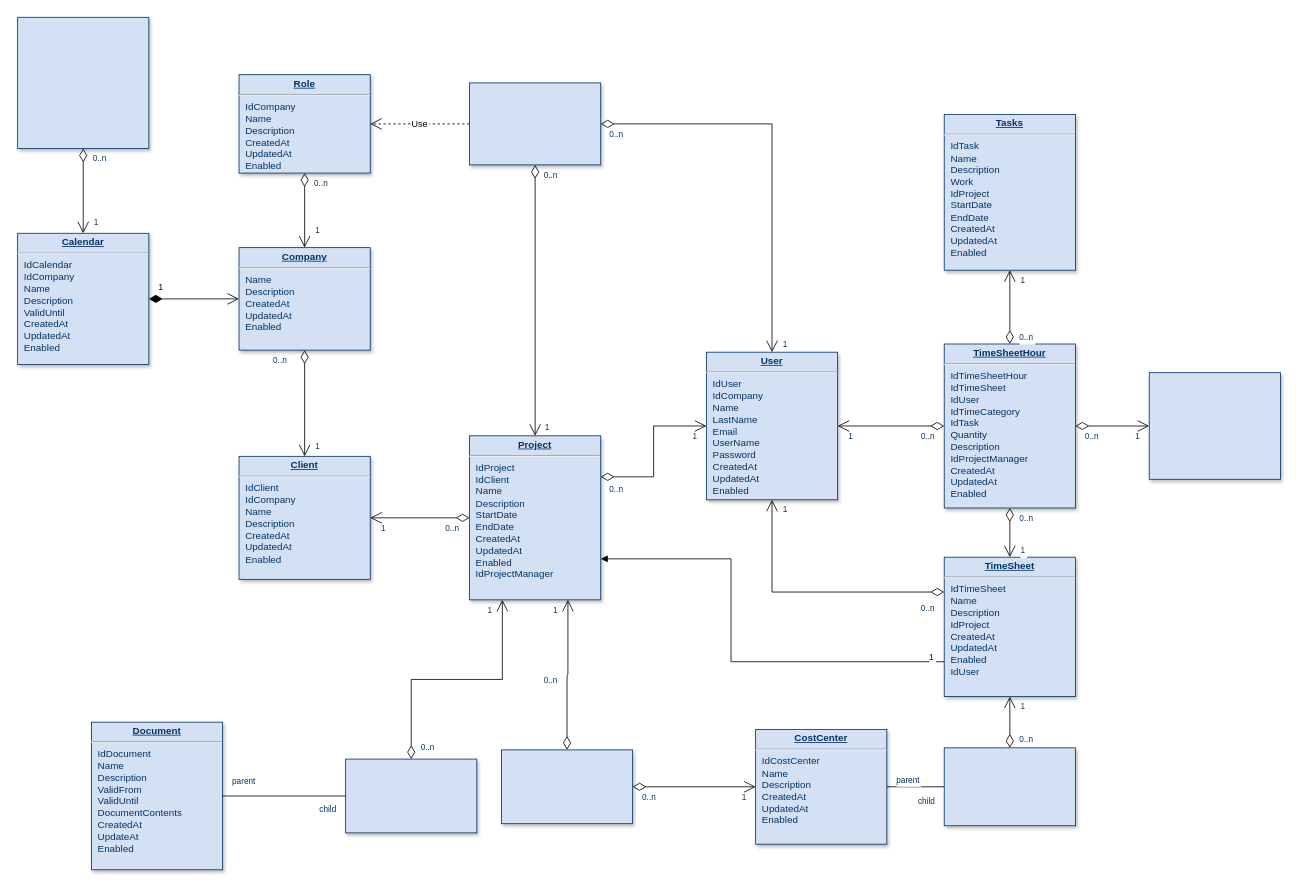
The diagram is 1300 pixels wide and 891 high, and some of its shapes have lost their labels. The centre of each missing label's shape, as x and y in pixels:
"Initial Startup" goes at (x=84, y=83).
"ProjectCostCenter IdProjectCostCenter IdProject IdCostCenter" goes at (x=567, y=787).
"ProjectDocument IdProjectDocument IdProject IdDocument" goes at (x=412, y=797).
"TimeCategory IdTimeCategory Name Description CreatedAt UpdatedAt Enabled" goes at (x=1215, y=427).
"TimeSheetCostCenter IdTimeSheetCostCenter IdTimeSheet IdCostCenter" goes at (x=1010, y=787).
"UserProjectRole IdUserProjectRole IdRole IdProject IdUser" goes at (x=535, y=125).
